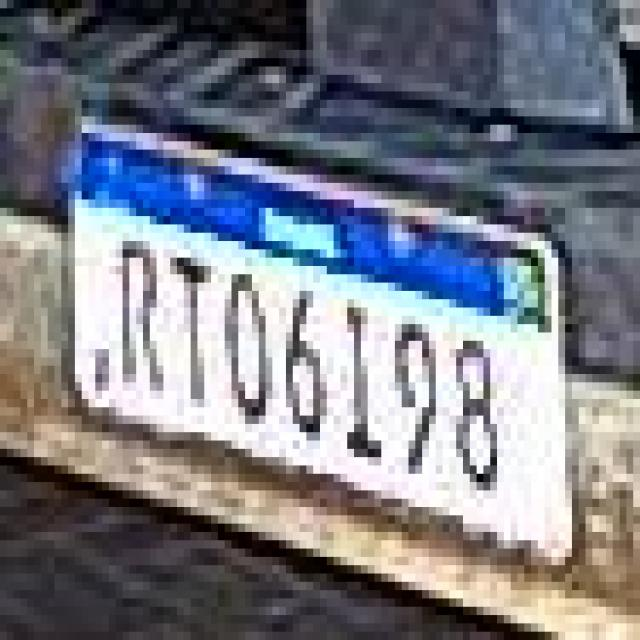6: (286, 275, 336, 452)
8: (456, 320, 504, 516)
9: (395, 300, 444, 490), (107, 214, 157, 400)
I: (343, 299, 395, 491)
O: (225, 253, 272, 438)
T: (174, 225, 216, 427)
